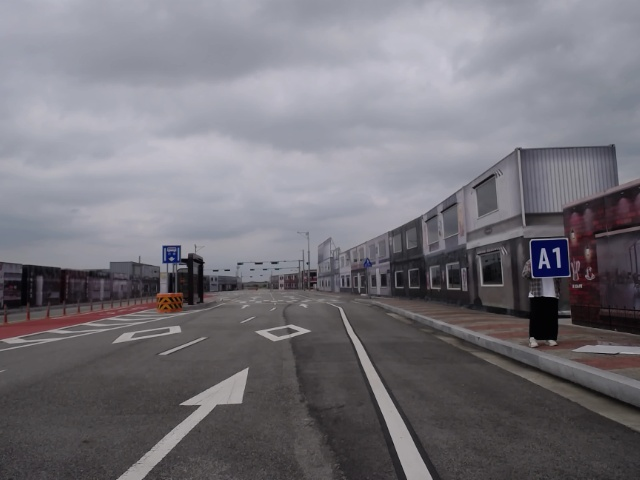delivery_a1: (530, 238, 571, 279)
